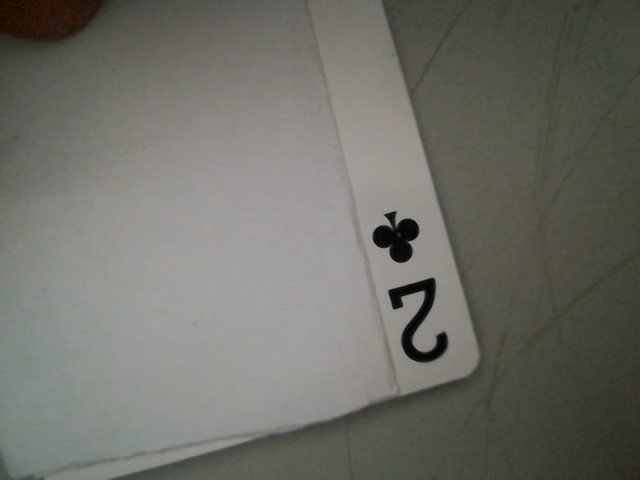mh 2: (364, 198, 466, 375)
